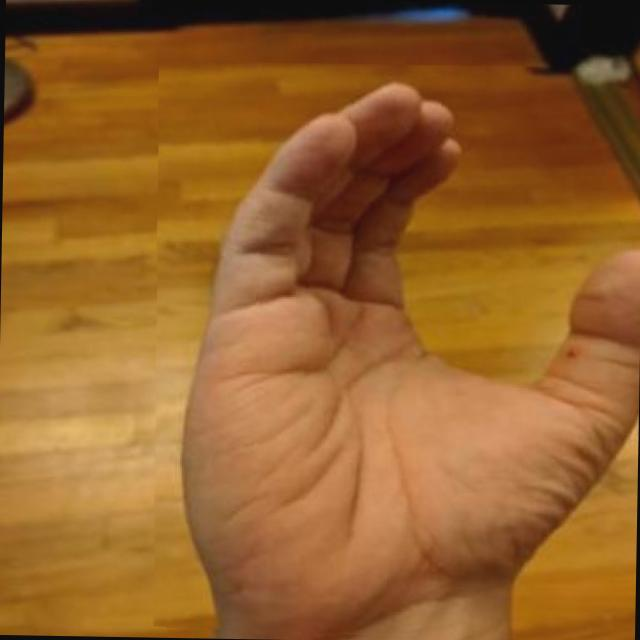C: (148, 60, 640, 640)
